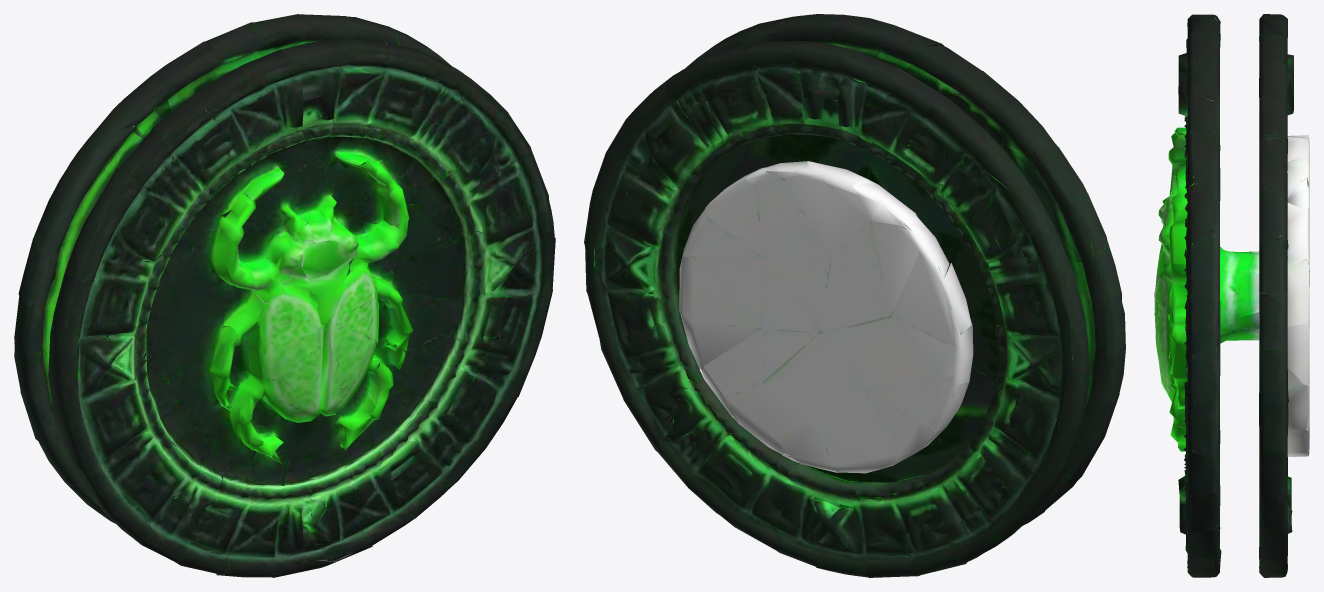
File: rune_scarab_dec.glb
The picture shows the model from 3 angles, left to right: view 1: azimuth 30°, elevation 25°; view 2: azimuth 150°, elevation 25°; view 3: azimuth 270°, elevation 25°; orthographic projection.
Visible parts, largest first — view 1: Mesh_0.012; view 2: Mesh_0.012; view 3: Mesh_0.012.
Boxes of the visible parts, bbox=[...] form: Mesh_0.012: bbox=[14, 14, 555, 577]; Mesh_0.012: bbox=[584, 14, 1125, 577]; Mesh_0.012: bbox=[1154, 14, 1309, 577].
Bounding box in the file's own units: 1.92 × 1.91 × 0.527.
Materials: 1 (1 with a texture image).
